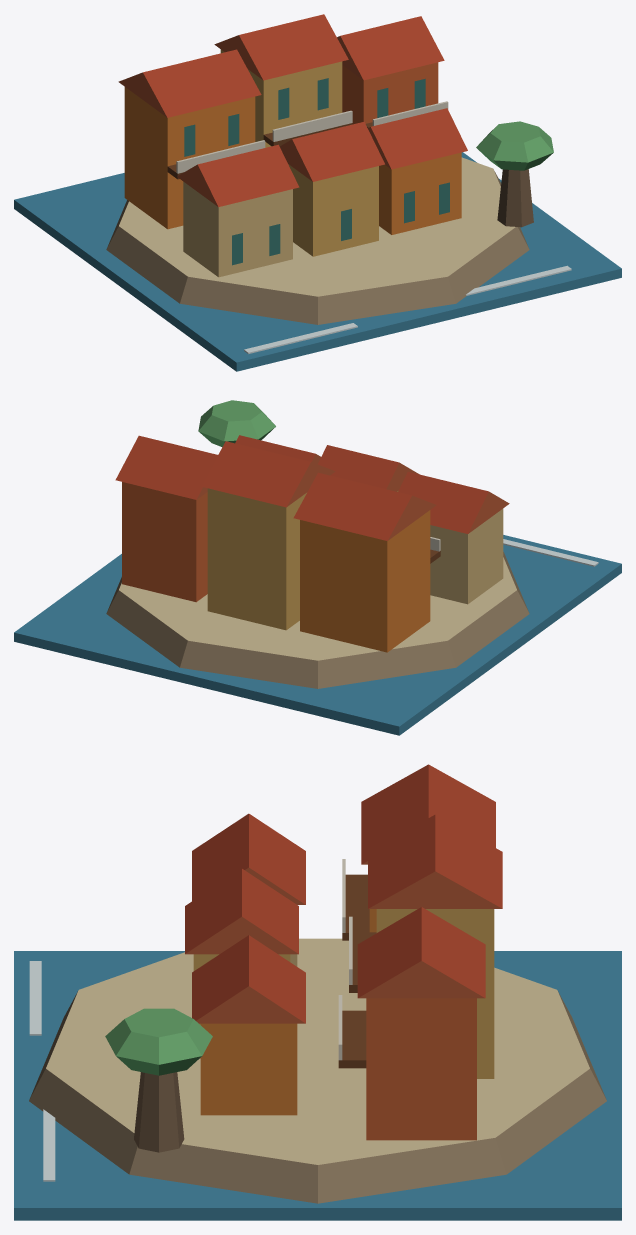
The model's file is goree.glb.
The picture shows the model from 3 angles, top to bottom: view 1: azimuth 30°, elevation 25°; view 2: azimuth 150°, elevation 25°; view 3: azimuth 270°, elevation 25°; orthographic projection. The views are drawn at different scales.
Parts seen in each view (by area): view 1: goree; view 2: goree; view 3: goree.
Boxes of the visible parts, left/top/right/bottom form: goree: left=14, top=14, right=621, bottom=371; goree: left=14, top=400, right=621, bottom=735; goree: left=14, top=764, right=621, bottom=1220.
Bounding box in the file's own units: 1.76 × 0.81 × 1.76.
